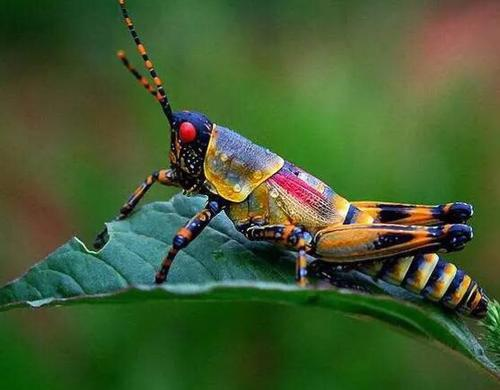huangchong: (134, 74, 487, 319)
